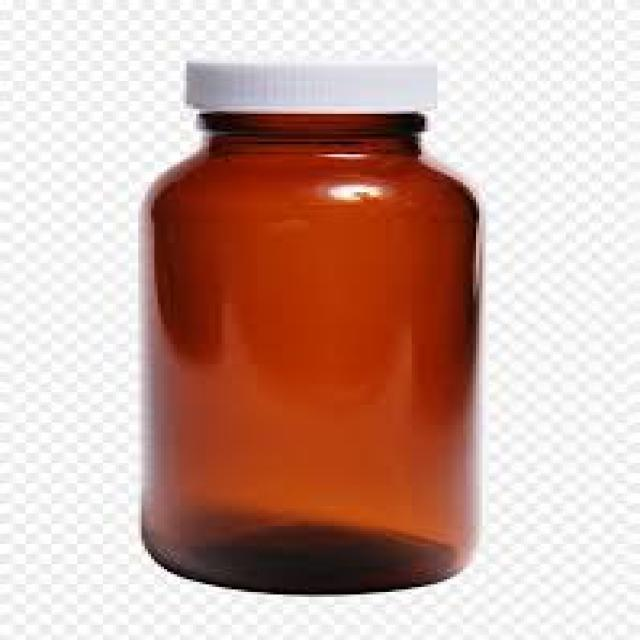Glass: (142, 116, 484, 599)
